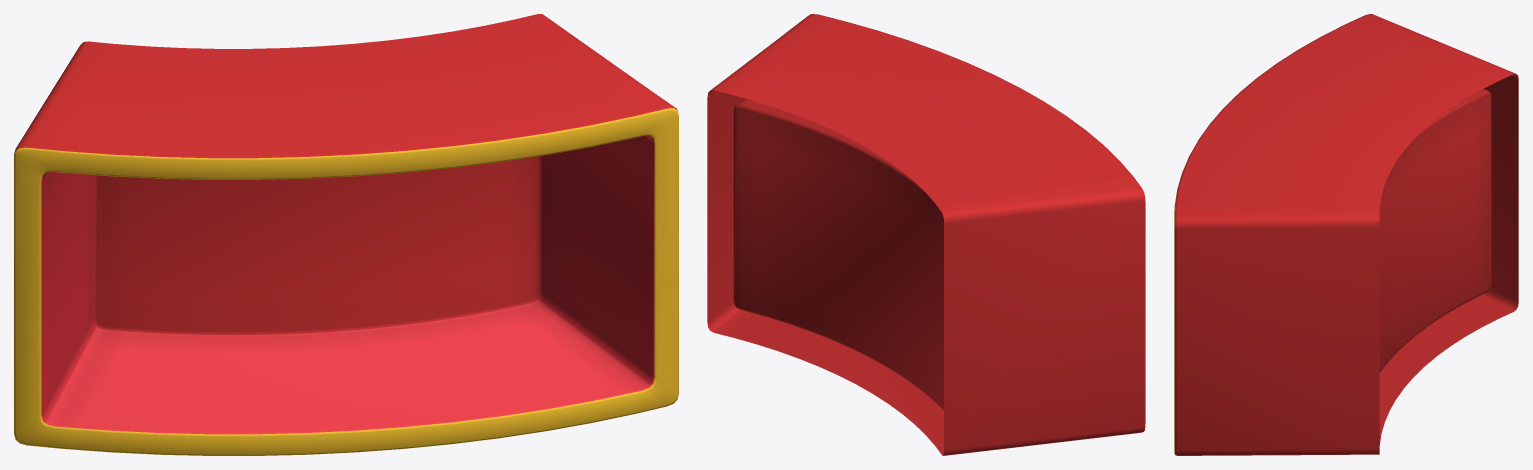
File: guizi_05.FBX
3 renders of one model, left to right at view 1: azimuth 30°, elevation 25°; view 2: azimuth 150°, elevation 25°; view 3: azimuth 270°, elevation 25°, orthographic. The views are drawn at different scales.
Visible parts, largest first — view 1: guizi_05; view 2: guizi_05; view 3: guizi_05.
Boxes of the visible parts, bbox=[...] form: guizi_05: bbox=[14, 14, 678, 455]; guizi_05: bbox=[707, 14, 1145, 455]; guizi_05: bbox=[1174, 14, 1518, 455].
Size of the model in its own units: 320 by 169 by 222.
1 material, 1 textured.
